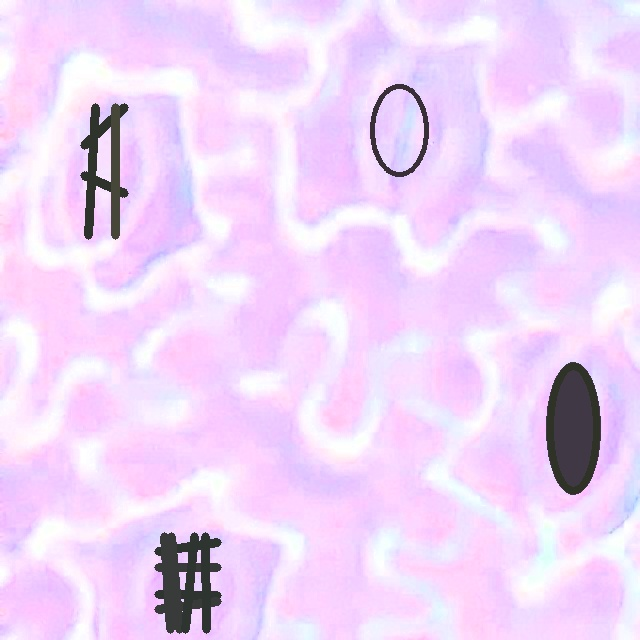open: (546, 362, 600, 494), (154, 532, 221, 633), (80, 103, 128, 239), (369, 83, 429, 177)
